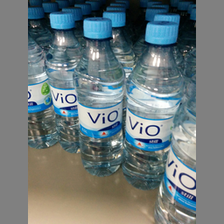water: (121, 21, 182, 188), (75, 16, 124, 178), (150, 75, 196, 224), (45, 9, 81, 152)
